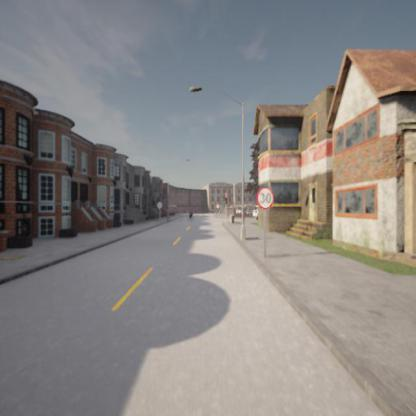traffic_sign_30: (256, 186, 274, 209)
